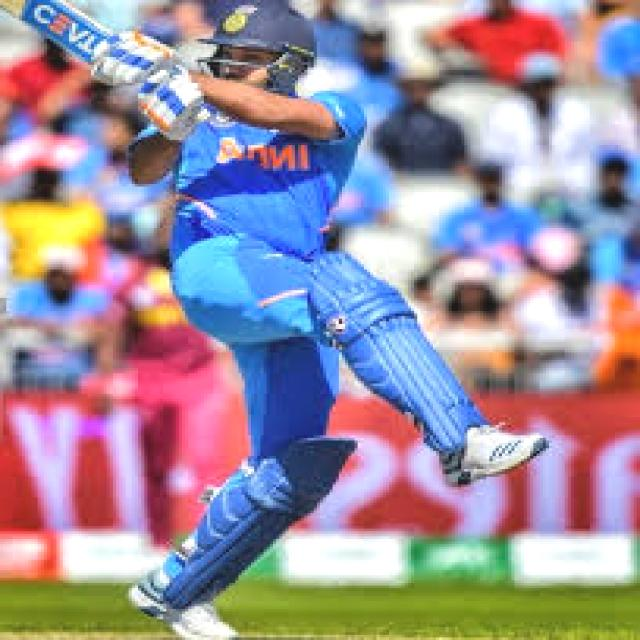toe: (0, 0, 60, 26)
